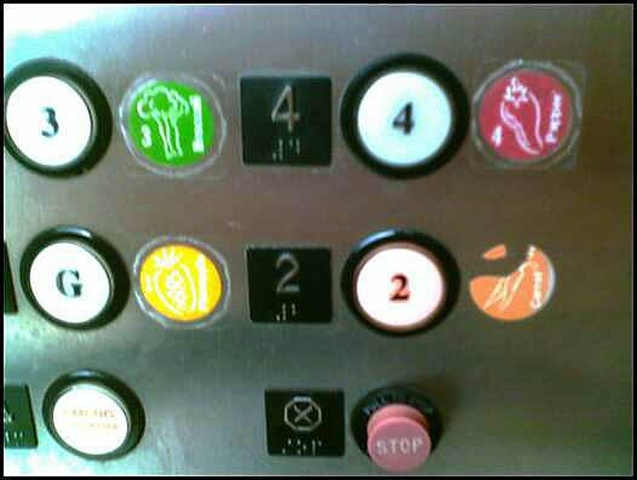2: (338, 225, 462, 340), (244, 241, 336, 327)
3: (3, 53, 116, 183)
4: (337, 47, 471, 184), (237, 70, 336, 169)
G: (16, 220, 130, 336)
stop: (260, 385, 348, 462)
text_STOP: (347, 380, 450, 475)
text_blur: (37, 364, 149, 464)
unknown: (467, 58, 584, 176), (118, 65, 236, 180), (129, 232, 235, 332), (465, 237, 559, 324)
